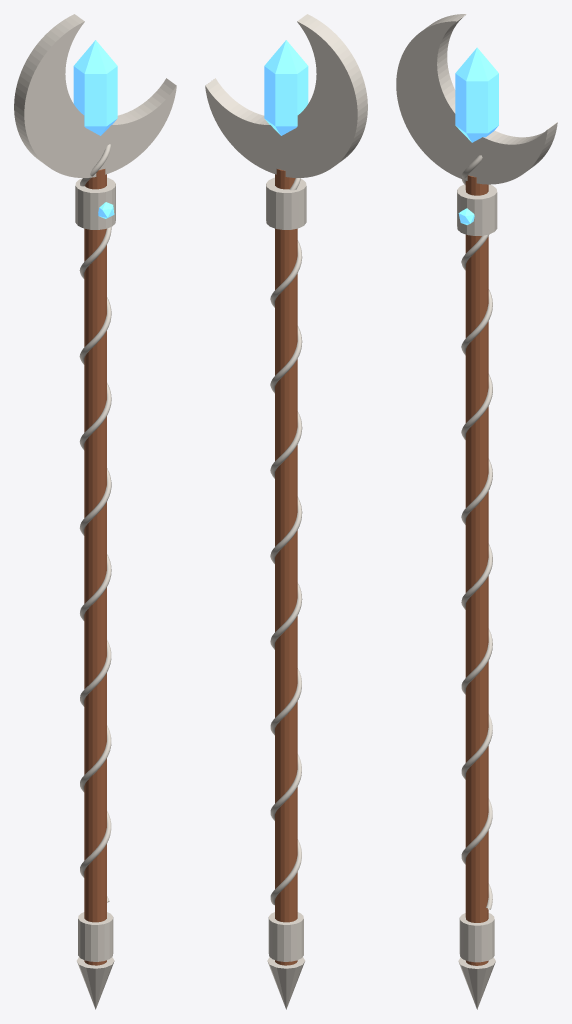
The model's file is mage_staff.glb.
The picture shows the model from 3 angles, left to right: view 1: azimuth 30°, elevation 25°; view 2: azimuth 150°, elevation 25°; view 3: azimuth 330°, elevation 25°; orthographic projection.
Parts seen in each view (by area): view 1: MAGE_Staff; view 2: MAGE_Staff; view 3: MAGE_Staff.
Part boxes in pixels (x1,y1,x2,y2): MAGE_Staff: (14, 14, 176, 1009); MAGE_Staff: (205, 14, 367, 1009); MAGE_Staff: (396, 14, 557, 1009).
Bounding box in the file's own units: 0.2592 × 1.62 × 0.0744.
